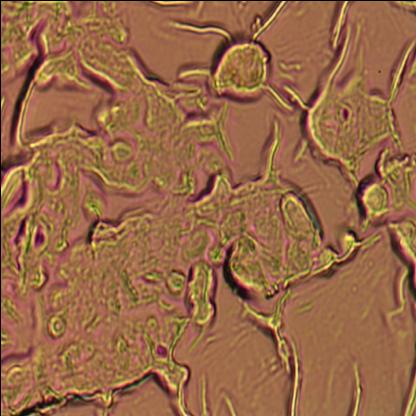Stage I: (0, 34, 288, 400)
